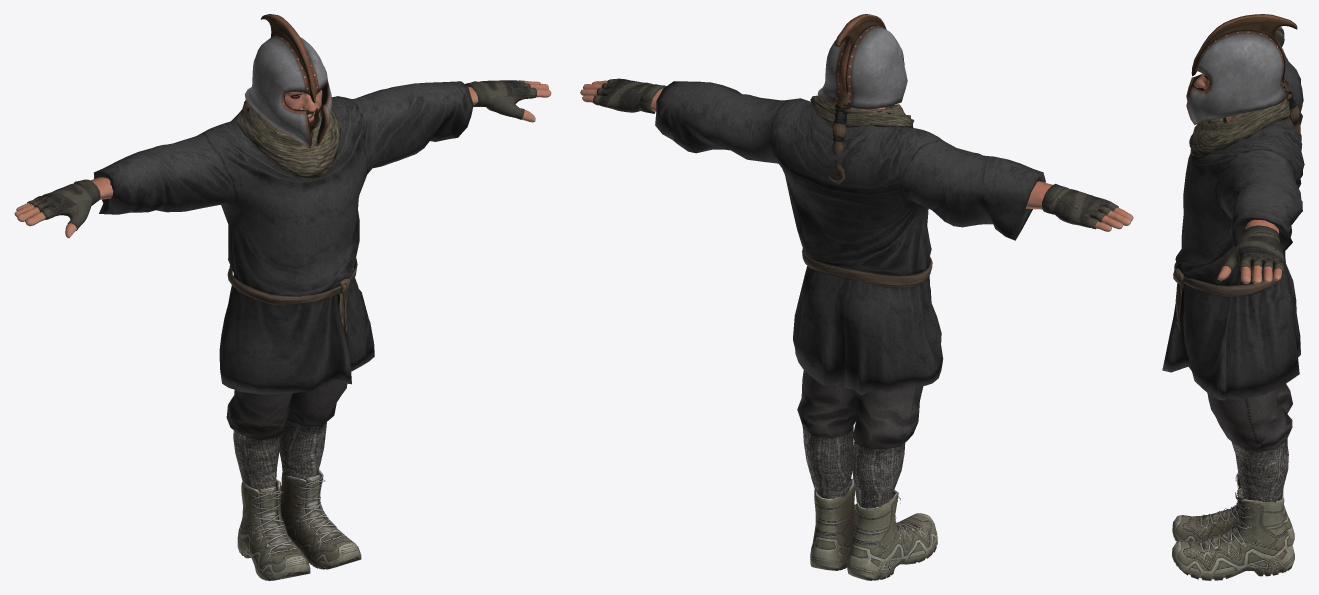
The model's file is Enemy.obj.
The picture shows the model from 3 angles, left to right: view 1: azimuth 30°, elevation 25°; view 2: azimuth 150°, elevation 25°; view 3: azimuth 270°, elevation 25°; orthographic projection. The views are drawn at different scales.
Parts seen in each view (by area): view 1: Tops, Shoes, Bottoms, Hats, Gloves, Body; view 2: Tops, Bottoms, Shoes, Hats, Gloves, Body, Hair; view 3: Tops, Hats, Shoes, Bottoms, Gloves, Body, Hair.
Boxes of the visible parts, left/top/right/bottom form: Tops: left=94, top=81, right=473, bottom=394; Shoes: left=237, top=469, right=361, bottom=580; Bottoms: left=226, top=379, right=347, bottom=489; Hats: left=244, top=14, right=332, bottom=148; Gloves: left=27, top=80, right=536, bottom=230; Body: left=14, top=80, right=551, bottom=238; Tops: left=655, top=81, right=1045, bottom=395; Bottoms: left=797, top=370, right=923, bottom=508; Shoes: left=810, top=478, right=937, bottom=580; Hats: left=817, top=14, right=907, bottom=109; Gloves: left=593, top=78, right=1118, bottom=229; Body: left=580, top=80, right=1133, bottom=231; Hair: left=828, top=91, right=851, bottom=184; Tops: left=1162, top=52, right=1304, bottom=400; Hats: left=1186, top=14, right=1297, bottom=125; Shoes: left=1172, top=472, right=1294, bottom=580; Bottoms: left=1207, top=384, right=1292, bottom=502; Gloves: left=1221, top=27, right=1284, bottom=272; Body: left=1194, top=26, right=1281, bottom=284; Hair: left=1282, top=78, right=1302, bottom=150.
Bounding box in the file's own units: 192 × 183 × 43.45.
Materials: 9 (9 with a texture image).
